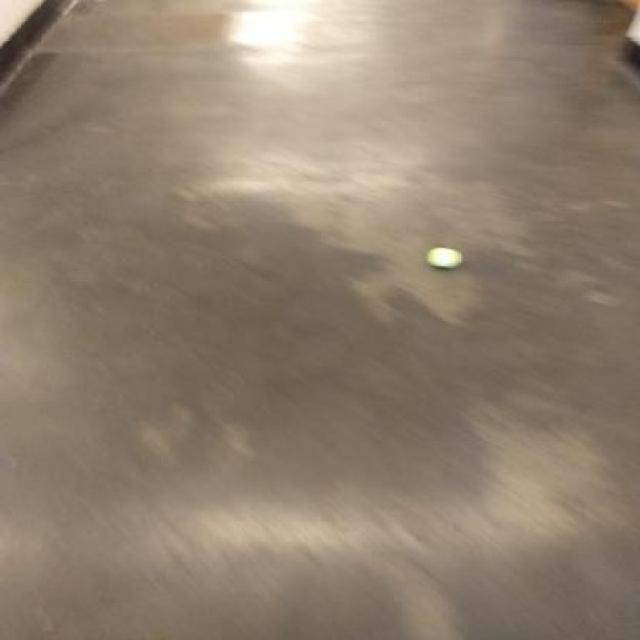Tennis_Ball: (429, 242, 466, 270)
